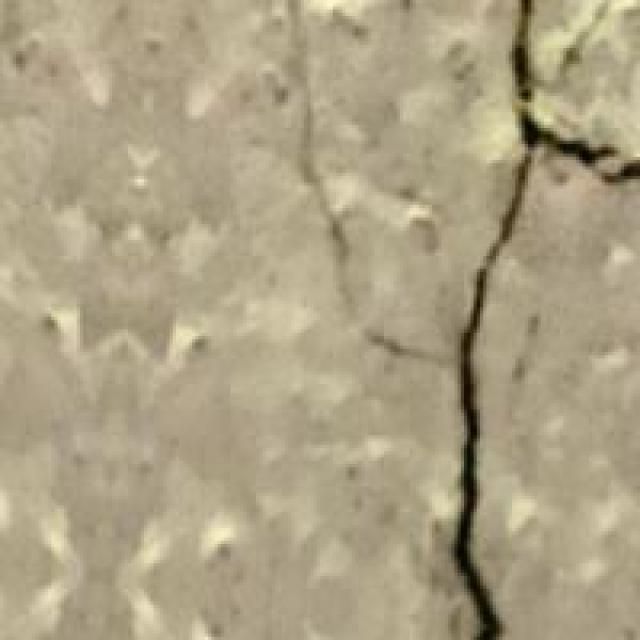Crack: (422, 0, 637, 637)
